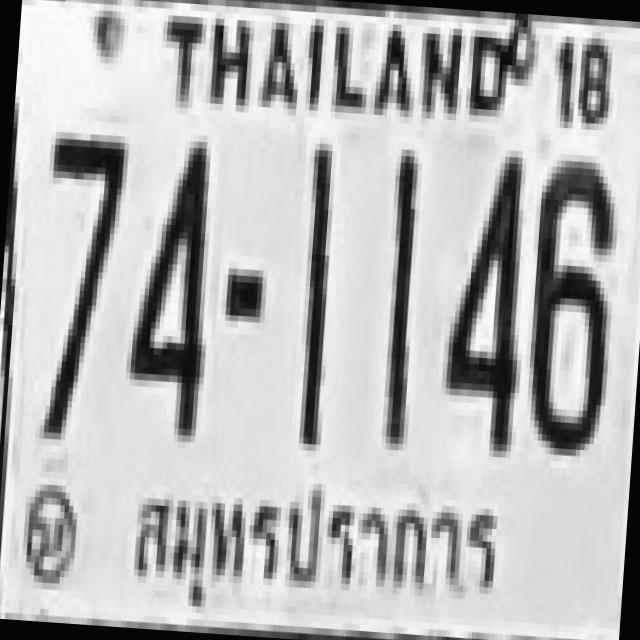1: (290, 139, 337, 441), (376, 148, 418, 444), (378, 146, 418, 408)
4: (122, 134, 216, 432), (437, 146, 527, 451)
6: (520, 152, 618, 451)
7: (30, 131, 124, 436), (32, 128, 124, 406), (38, 128, 124, 334)
SamutPrakan: (108, 456, 518, 638)
